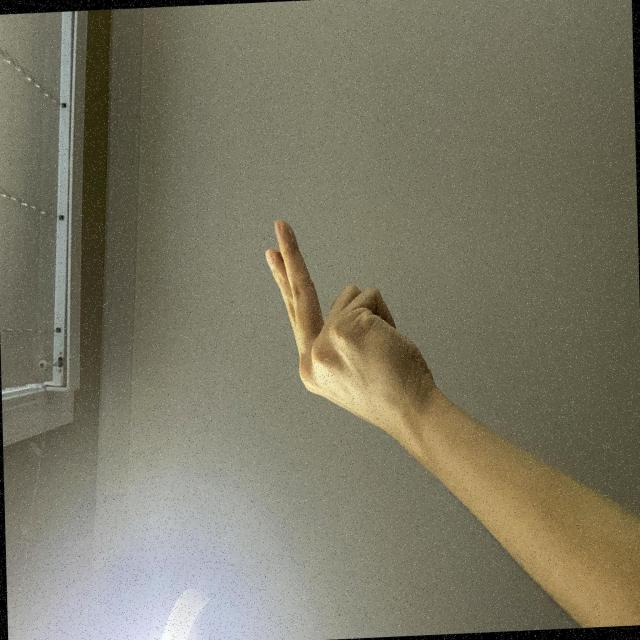H: (144, 350, 332, 589)
